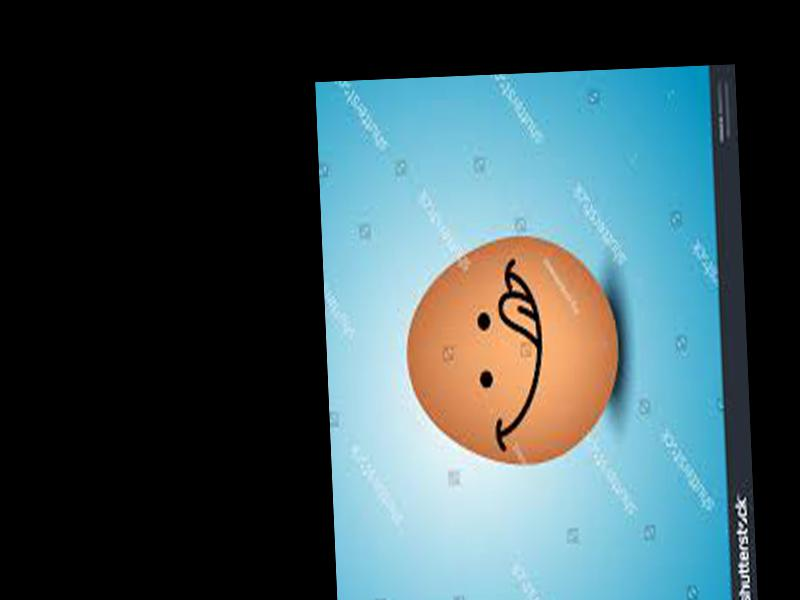Eggs: (402, 231, 623, 470)
